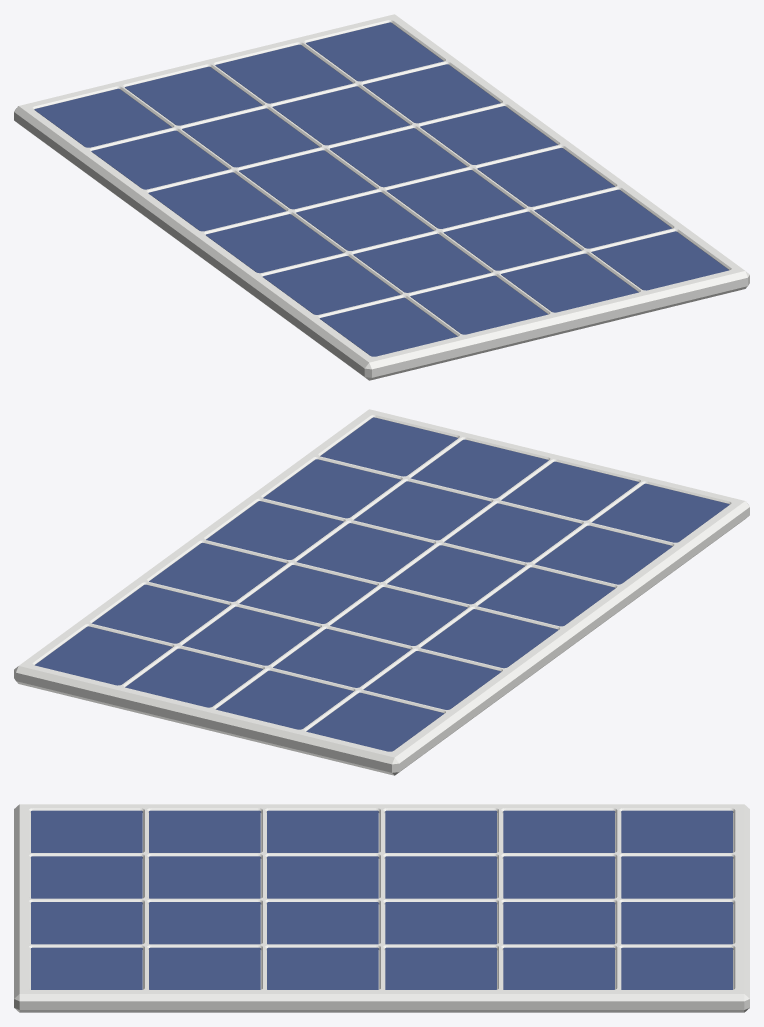
The model's file is ax_power_04_conformal_solar_m.glb.
3 views of the same model, one above another, from view 1: azimuth 30°, elevation 25°; view 2: azimuth 150°, elevation 25°; view 3: azimuth 270°, elevation 25° (orthographic). The views are drawn at different scales.
Visible parts, largest first — view 1: solar_cells, skin_panel; view 2: solar_cells, skin_panel; view 3: solar_cells, skin_panel.
Boxes of the visible parts, box(x1,y1,x2,y2) form: solar_cells: box(34, 22, 728, 356); skin_panel: box(14, 14, 749, 380); solar_cells: box(35, 417, 729, 751); skin_panel: box(14, 409, 749, 775); solar_cells: box(31, 810, 732, 989); skin_panel: box(14, 804, 749, 1012).
Size of the model in its own units: 1 by 0.045 by 1.6.
